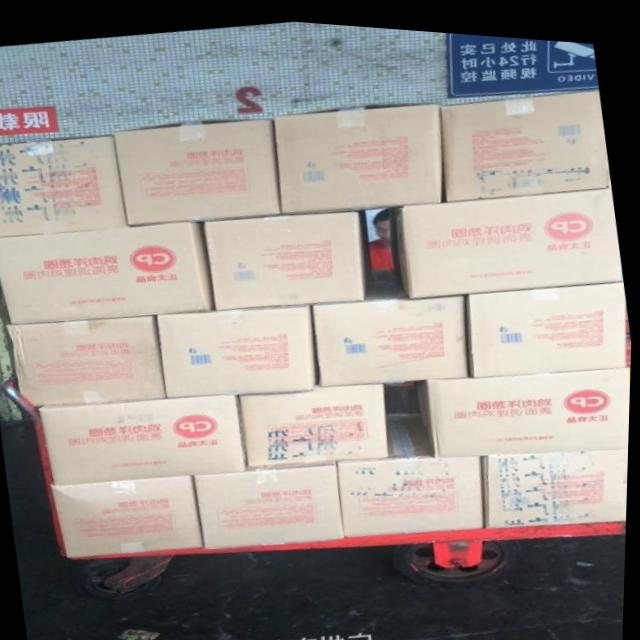box: (393, 180, 622, 290), (0, 220, 216, 325), (34, 392, 251, 486), (415, 357, 633, 448), (274, 97, 447, 211), (442, 80, 613, 195), (107, 115, 281, 223), (341, 405, 486, 531), (310, 274, 474, 379), (201, 204, 370, 305), (468, 271, 627, 370), (157, 299, 317, 397), (7, 312, 163, 409), (0, 132, 129, 237), (48, 474, 207, 559), (197, 457, 346, 546), (237, 376, 389, 461), (484, 437, 631, 521)
